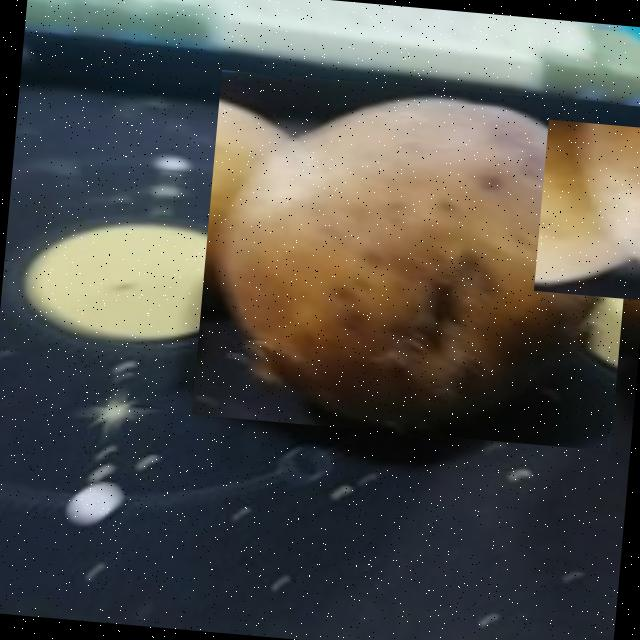Damaged potato: (191, 70, 640, 450)
Potato: (533, 119, 640, 300)
